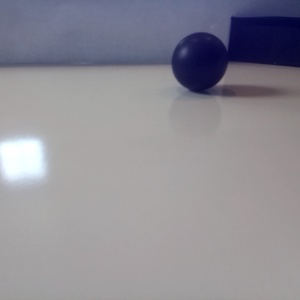zone: (227, 16, 300, 67)
